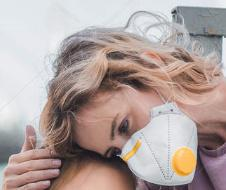OK: (79, 88, 197, 185)
